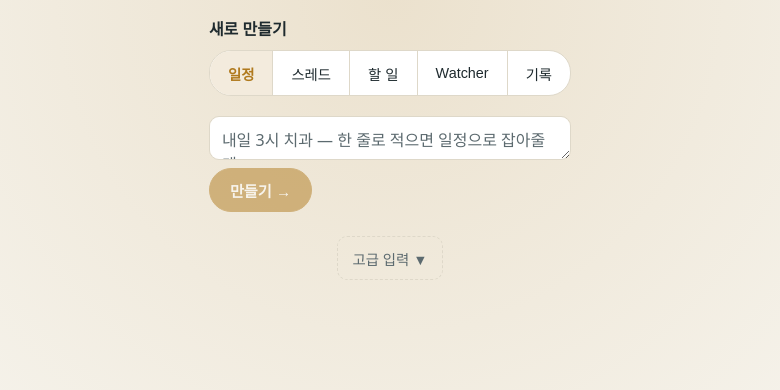
Test: InputHub — Composer 일정 mode › capture failure keeps input visible and shows local error
expect the element with test id "input-quiet" is shown: met, box left=209, top=18, right=571, bottom=280
Type "운동" into the text box named "만들기 입력". click: point(390, 138)
box: left=209, top=116, right=571, bottom=160
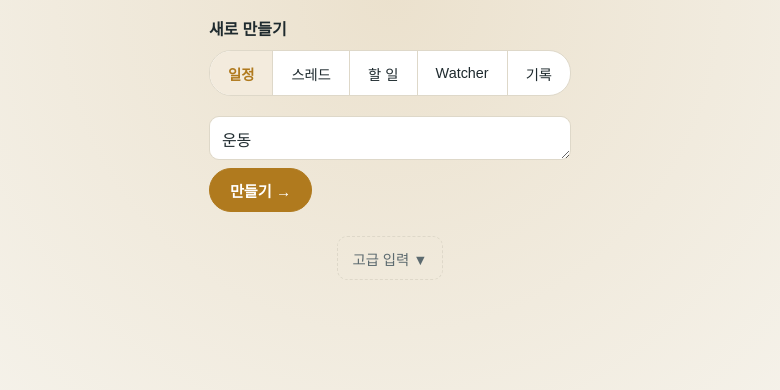
Click the button labelled "만들기 →". click: point(261, 190)
box: left=209, top=168, right=312, bottom=212
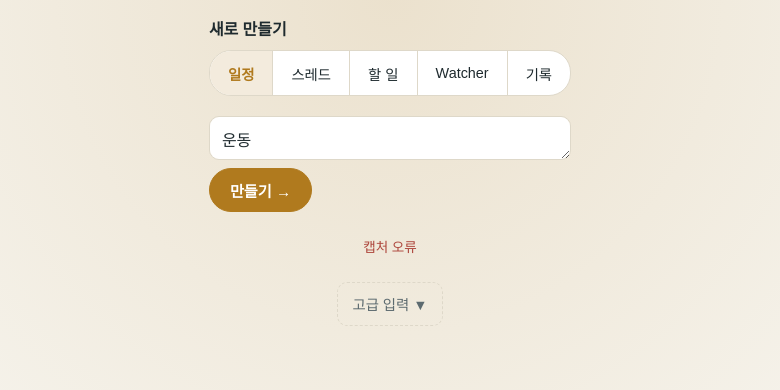
expect the text "캡처 오류" is shown: met, box left=363, top=236, right=417, bottom=258
